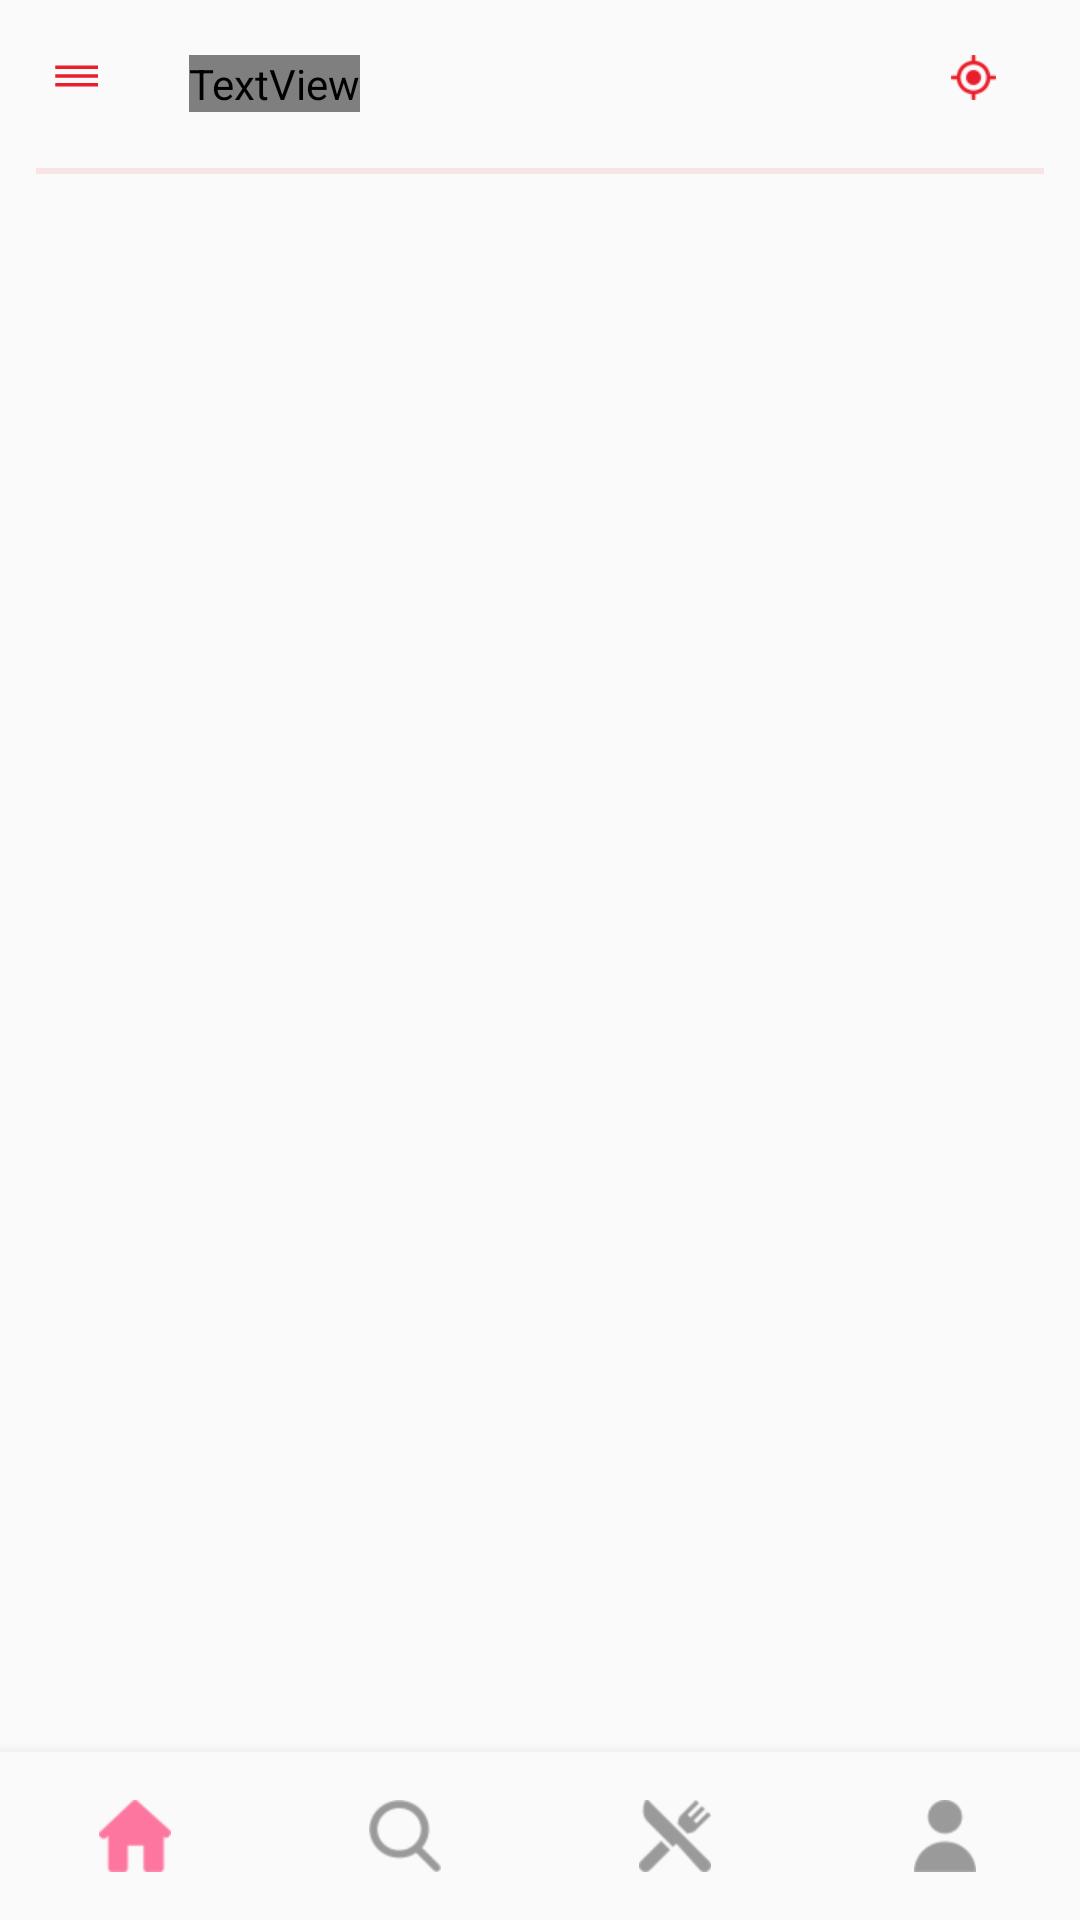

Locate icon controls on the screen. Image size 1080×1920, boxes as BBox(x1, y1, x2, y2).
menu: BBox(55, 65, 98, 87)
